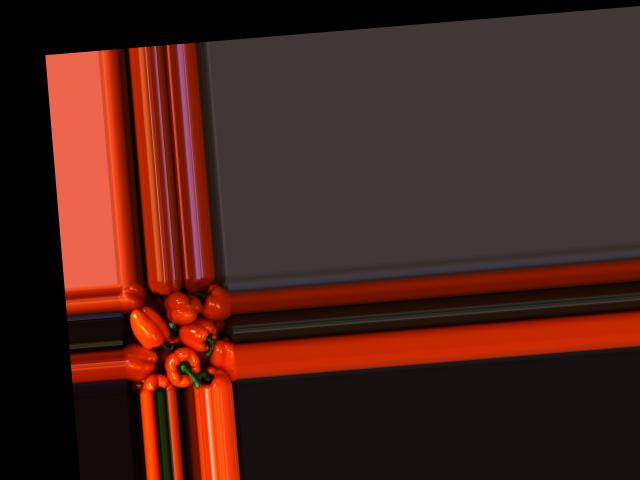bell_pepper: (175, 275, 219, 302)
